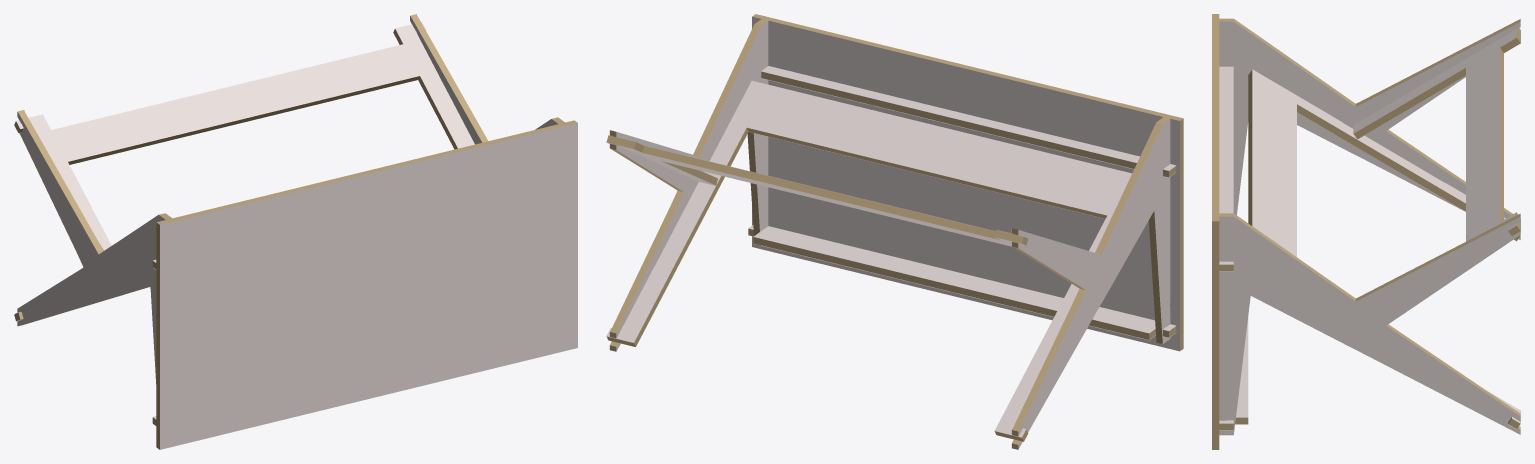
File: NODO_ESCRITORIO_ESCULTORICO_PARAISO_AR_UNIVERSAL_V11 (1).glb
3 views of the same model, side by side, from view 1: azimuth 30°, elevation 25°; view 2: azimuth 150°, elevation 25°; view 3: azimuth 270°, elevation 25° (orthographic). The views are drawn at different scales.
Visible parts, largest first — view 1: G_Tapa_Superior_CARAS_COLOR_REAL, B_Escuadra_Trasera_PIEL_LISA_1, D_Lateral_Izq_PIEL_LISA_-1, G_Tapa_Superior_CANTO_MDF, B_Escuadra_Trasera_canto, D_Lateral_Izq_cuerpo, D_Lateral_Izq_canto, C_Lateral_Der_canto, C_Lateral_Der_PIEL_LISA_-1; view 2: G_Tapa_Superior_CARAS_COLOR_REAL, A_Escuadra_Delantera_PIEL_LISA_1, D_Lateral_Izq_PIEL_LISA_-1, F_Traba_Delantera_PIEL_LISA_1, A_Escuadra_Delantera_cuerpo, C_Lateral_Der_PIEL_LISA_-1, B_Escuadra_Trasera_canto, D_Lateral_Izq_canto, C_Lateral_Der_canto, E_Traba_Trasera_PIEL_LISA_1, E_Traba_Trasera_canto, F_Traba_Delantera_canto (+5 smaller); view 3: C_Lateral_Der_PIEL_LISA_1, D_Lateral_Izq_PIEL_LISA_1, A_Escuadra_Delantera_PIEL_LISA_1, B_Escuadra_Trasera_PIEL_LISA_1, G_Tapa_Superior_CANTO_MDF, C_Lateral_Der_cuerpo, A_Escuadra_Delantera_canto, E_Traba_Trasera_PIEL_LISA_1, D_Lateral_Izq_cuerpo, B_Escuadra_Trasera_canto, C_Lateral_Der_canto, A_Escuadra_Delantera_cuerpo (+3 smaller).
Boxes of the visible parts, x1,y1,x2,y2 form: G_Tapa_Superior_CARAS_COLOR_REAL: [160, 123, 577, 449]; B_Escuadra_Trasera_PIEL_LISA_1: [16, 22, 474, 250]; D_Lateral_Izq_PIEL_LISA_-1: [17, 112, 164, 330]; G_Tapa_Superior_CANTO_MDF: [156, 120, 577, 449]; B_Escuadra_Trasera_canto: [14, 29, 457, 164]; D_Lateral_Izq_cuerpo: [17, 112, 165, 383]; D_Lateral_Izq_canto: [18, 110, 171, 325]; C_Lateral_Der_canto: [410, 14, 564, 142]; C_Lateral_Der_PIEL_LISA_-1: [410, 16, 557, 144]; G_Tapa_Superior_CARAS_COLOR_REAL: [752, 16, 1179, 351]; A_Escuadra_Delantera_PIEL_LISA_1: [606, 80, 1131, 437]; D_Lateral_Izq_PIEL_LISA_-1: [1018, 119, 1170, 448]; F_Traba_Delantera_PIEL_LISA_1: [749, 225, 1175, 332]; A_Escuadra_Delantera_cuerpo: [607, 127, 1106, 437]; C_Lateral_Der_PIEL_LISA_-1: [616, 21, 768, 350]; B_Escuadra_Trasera_canto: [606, 135, 1027, 245]; D_Lateral_Izq_canto: [1012, 117, 1169, 449]; C_Lateral_Der_canto: [610, 19, 767, 351]; E_Traba_Trasera_PIEL_LISA_1: [761, 66, 1175, 170]; E_Traba_Trasera_canto: [761, 71, 1176, 177]; F_Traba_Delantera_canto: [748, 228, 1176, 339]; C_Lateral_Der_PIEL_LISA_1: [1219, 216, 1520, 435]; D_Lateral_Izq_PIEL_LISA_1: [1219, 22, 1520, 239]; A_Escuadra_Delantera_PIEL_LISA_1: [1252, 69, 1520, 423]; B_Escuadra_Trasera_PIEL_LISA_1: [1353, 29, 1516, 241]; G_Tapa_Superior_CANTO_MDF: [1212, 14, 1219, 449]; C_Lateral_Der_cuerpo: [1219, 217, 1520, 434]; A_Escuadra_Delantera_canto: [1248, 70, 1520, 428]; E_Traba_Trasera_PIEL_LISA_1: [1219, 66, 1233, 264]; D_Lateral_Izq_cuerpo: [1219, 21, 1520, 239]; B_Escuadra_Trasera_canto: [1354, 28, 1520, 235]; C_Lateral_Der_canto: [1219, 213, 1520, 429]; A_Escuadra_Delantera_cuerpo: [1252, 70, 1520, 423].
Size of what is drawn, in the model's own units: 1.22 by 0.628 by 0.7686.
